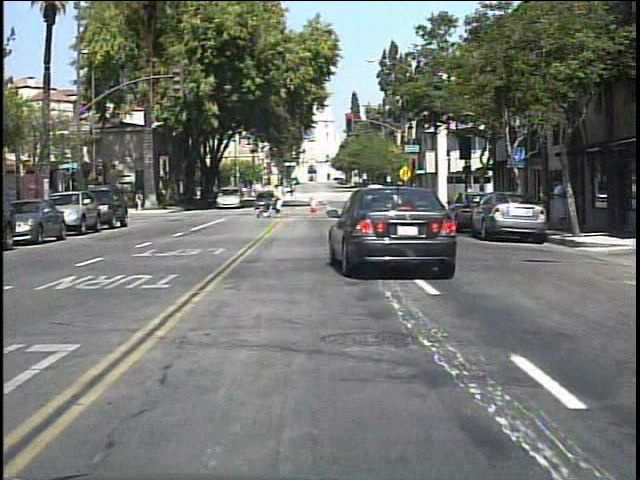person: (546, 173, 567, 233), (274, 181, 291, 220), (135, 188, 145, 213)
